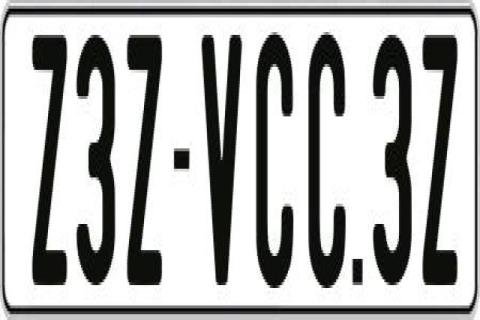0: (372, 32, 412, 288), (75, 29, 114, 285)
C: (305, 29, 348, 299), (256, 29, 294, 299)
V: (202, 26, 245, 291)
Z: (420, 27, 460, 280), (32, 29, 72, 279), (128, 35, 166, 297)
